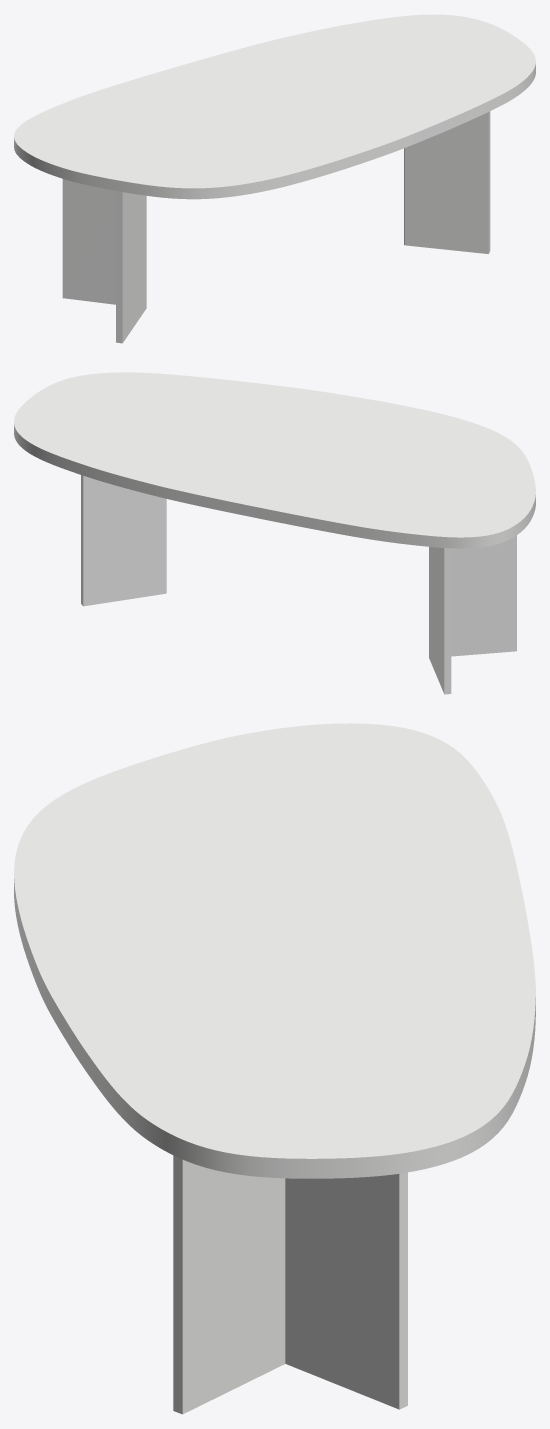
File: purewhite_leaf2_standard_valleyv.glb
3 views of the same model, one above another, from view 1: azimuth 30°, elevation 25°; view 2: azimuth 150°, elevation 25°; view 3: azimuth 270°, elevation 25° (orthographic). The views are drawn at different scales.
Visible parts, largest first — view 1: standard_leaf2, valleyv; view 2: standard_leaf2, valleyv; view 3: standard_leaf2, valleyv.
Part boxes in pixels (<box>): standard_leaf2: <box>14,14,535,199</box>; valleyv: <box>62,111,490,343</box>; standard_leaf2: <box>14,372,535,548</box>; valleyv: <box>81,475,516,694</box>; standard_leaf2: <box>14,723,535,1178</box>; valleyv: <box>173,1155,407,1414</box>.
Bounding box in the file's own units: 7.5 × 2.52 × 3.8.
Materials: 1 (1 with a texture image).
